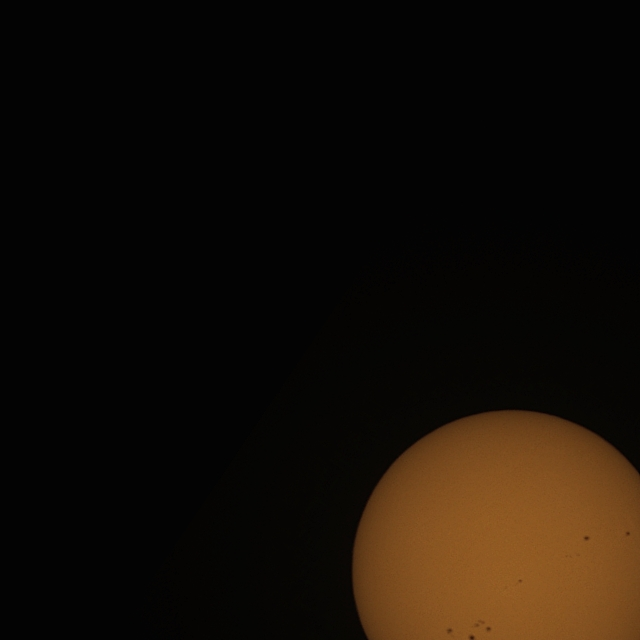sunspot: (471, 620, 492, 635), (446, 627, 454, 636), (468, 633, 477, 640), (485, 625, 492, 632), (583, 535, 590, 542), (517, 578, 523, 584), (625, 531, 631, 536)
